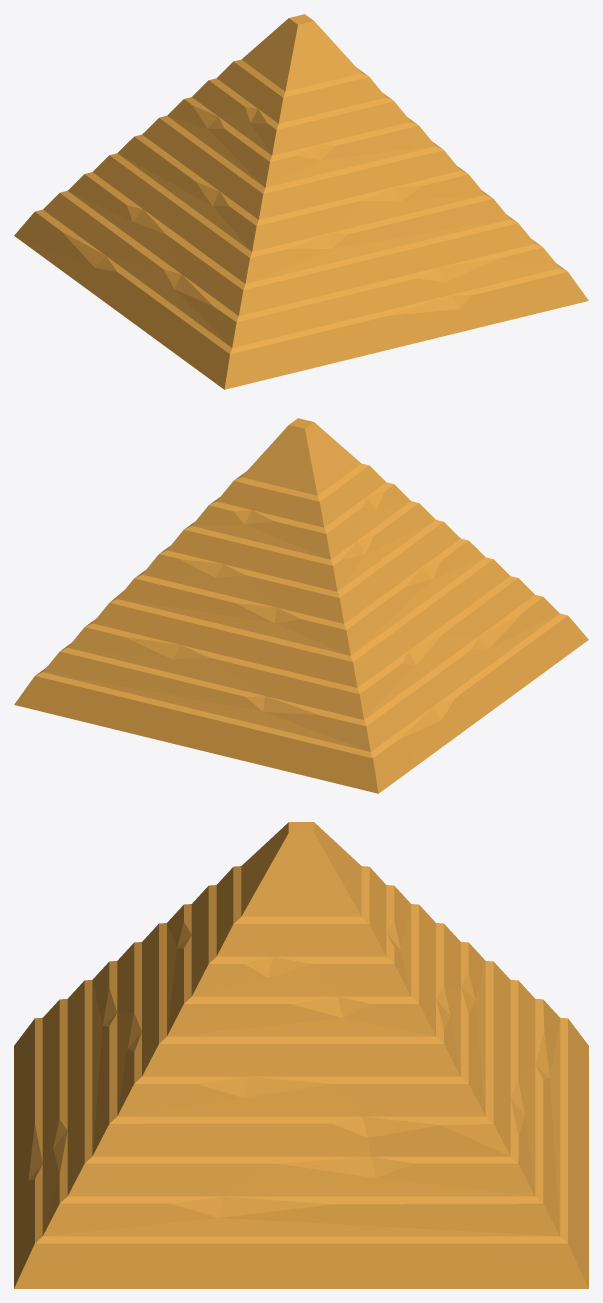
The picture shows the model from 3 angles, top to bottom: view 1: azimuth 30°, elevation 25°; view 2: azimuth 150°, elevation 25°; view 3: azimuth 270°, elevation 25°; orthographic projection. The views are drawn at different scales.
Parts seen in each view (by area): view 1: pyramid; view 2: pyramid; view 3: pyramid.
Part boxes in pixels (x1,y1,x2,y2): pyramid: (14,14,588,389); pyramid: (14,418,588,793); pyramid: (14,822,588,1288).
Size of the model in its own units: 60 by 39.14 by 60.
